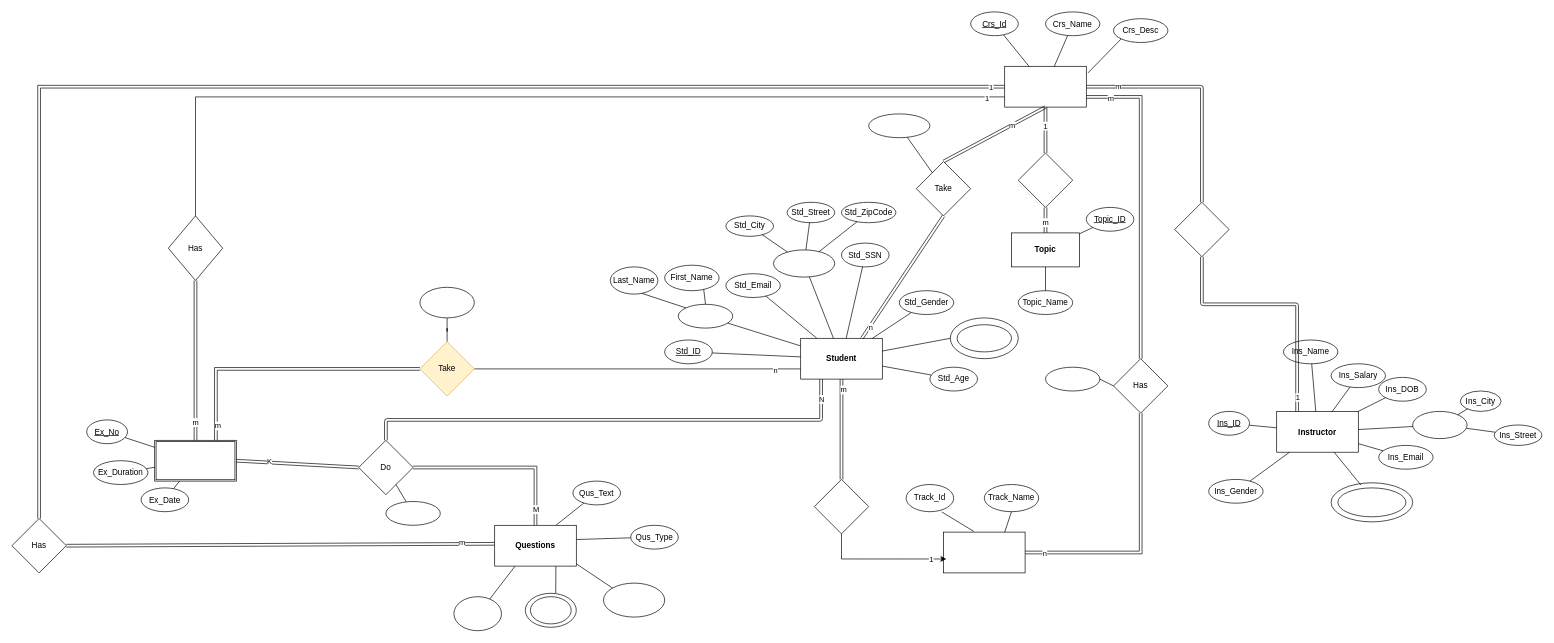
The diagram is 1554 pixels wide and 643 high, and some of its shapes have lost their labels. Here are the shapes that lost their labels. From the top down, the centre of each, then its label:
At point (1045, 86): "Course".
At point (899, 125): "Attend_Status".
At point (1045, 179): "Include".
At point (1201, 229): "Teach".
At point (804, 263): "Std_Address".
At point (446, 302): "Grade".
At point (705, 316): "Std_Name".
At point (984, 338): "Std_PhoneNo".
At point (1072, 379): "Start_date".
At point (1439, 425): "Ins_Address".
At point (195, 460): "Exam".
At point (412, 513): "Std_Answer".
At point (841, 506): "Enroll".
At point (1371, 502): "Ins_PhoneNum".
At point (984, 552): "Track".
At point (477, 613): "Qus_No".
At point (550, 610): "Choice".
At point (634, 599): "Correct Answer".
